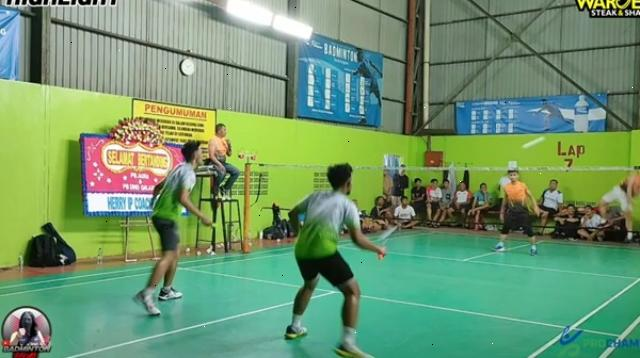Shuttlecock: (522, 132, 548, 152)
